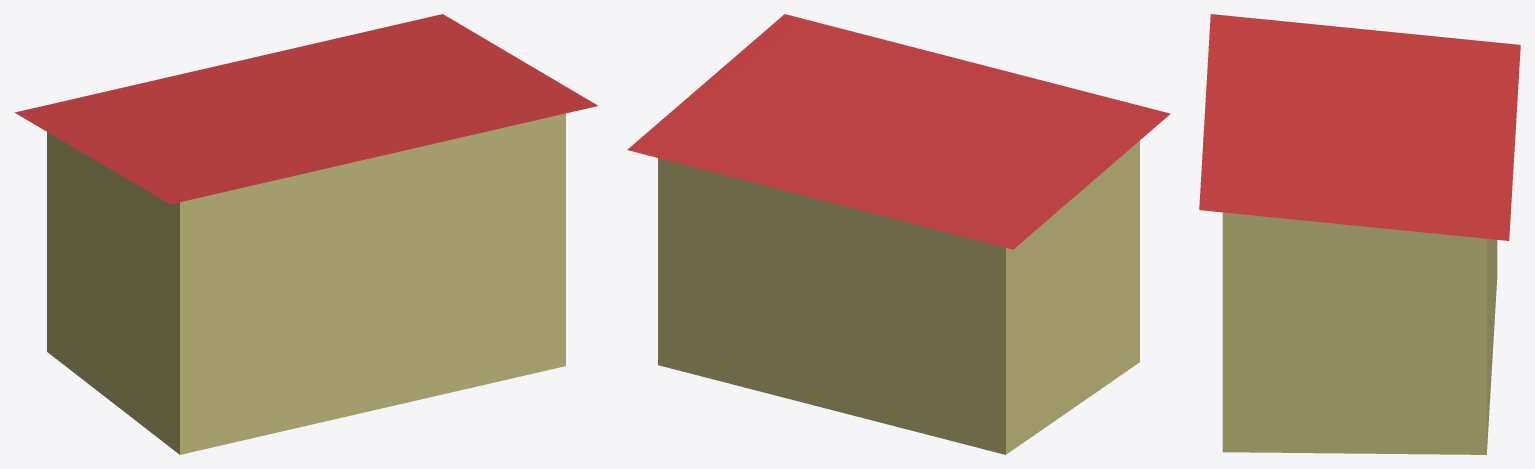
The picture shows the model from 3 angles, left to right: view 1: azimuth 30°, elevation 25°; view 2: azimuth 150°, elevation 25°; view 3: azimuth 270°, elevation 25°; orthographic projection. The views are drawn at different scales.
Size of the model in its own units: 10.27 by 7 by 6.04.
